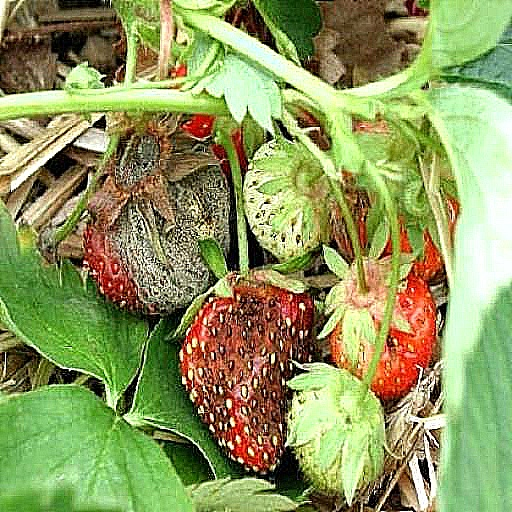Anthracnose Fruit Rot: (195, 274, 335, 473), (282, 132, 426, 315)
